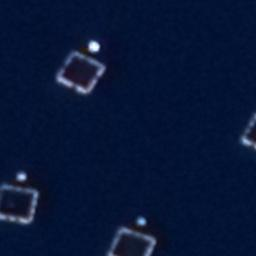square_solid: (53, 48, 109, 98), (1, 180, 40, 228), (106, 223, 158, 256)
